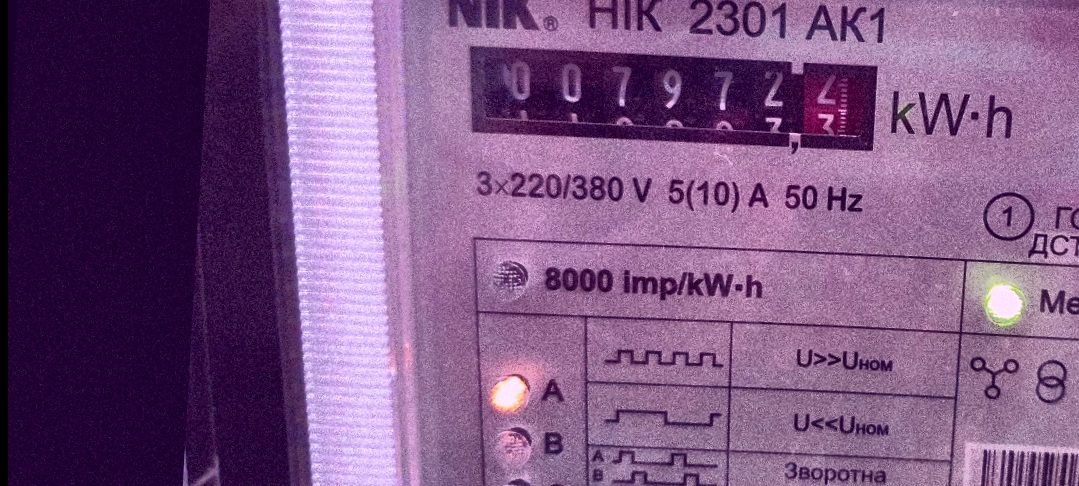0: (507, 58, 535, 101), (559, 60, 585, 103)
2: (762, 69, 787, 108), (814, 72, 839, 107)
3: (814, 110, 837, 136)
7: (709, 67, 737, 114), (608, 62, 635, 108)
9: (659, 65, 684, 110)
screen: (448, 29, 896, 169)
